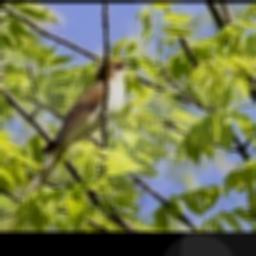Cuckoo: (23, 59, 138, 201)
